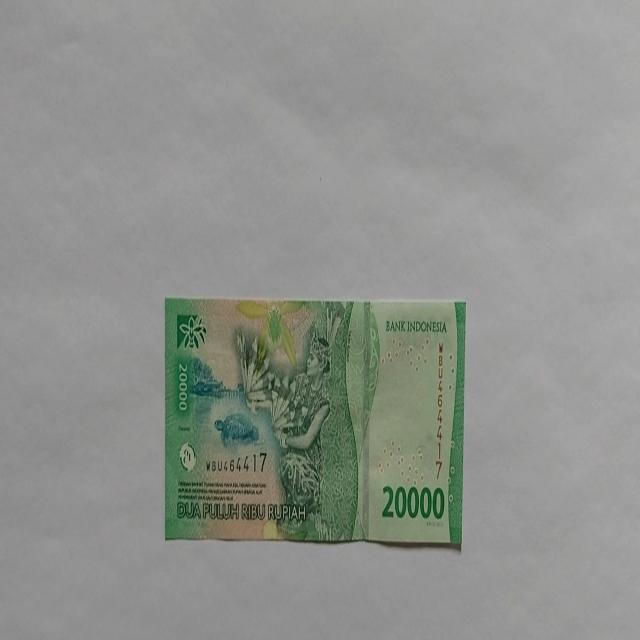dua puluh ribu rupiah: (164, 296, 466, 548), (234, 299, 378, 542)
